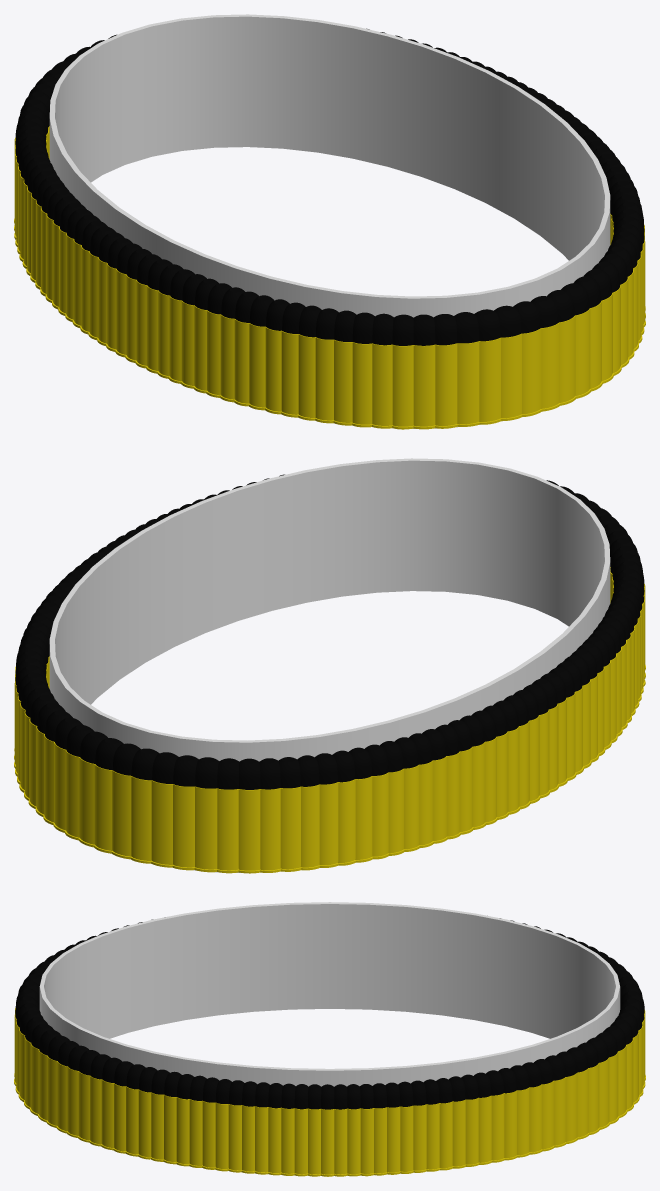
File: bandolier.fbx
3 views of the same model, one above another, from view 1: azimuth 30°, elevation 25°; view 2: azimuth 150°, elevation 25°; view 3: azimuth 270°, elevation 25° (orthographic). The views are drawn at different scales.
Visible parts, largest first — view 1: BézierCircle.001, BulletLow; view 2: BézierCircle.001, BulletLow; view 3: BézierCircle.001, BulletLow.
Boxes of the visible parts, x1,y1,x2,y2 form: BézierCircle.001: (49,14,610,428); BulletLow: (14,28,645,429); BézierCircle.001: (49,458,610,872); BulletLow: (14,474,645,873); BézierCircle.001: (39,902,620,1086); BulletLow: (14,918,645,1176).
Size of the model in its own units: 94.43 by 23.92 by 131.
